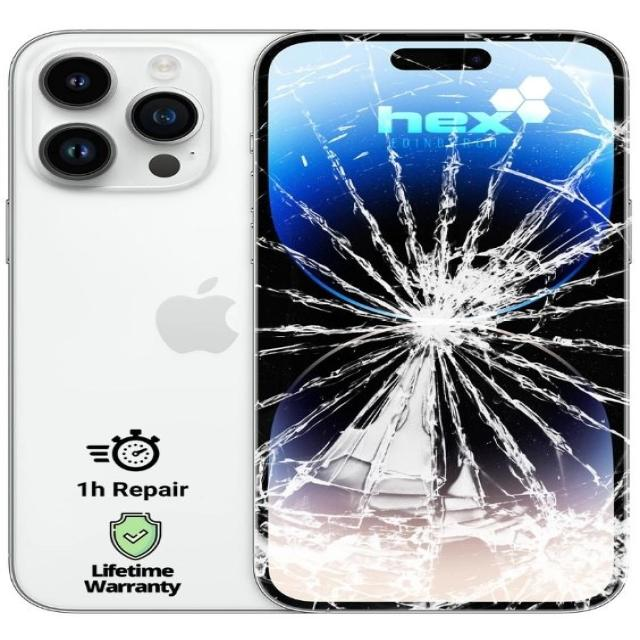phones: (256, 32, 628, 609), (7, 31, 275, 609)
